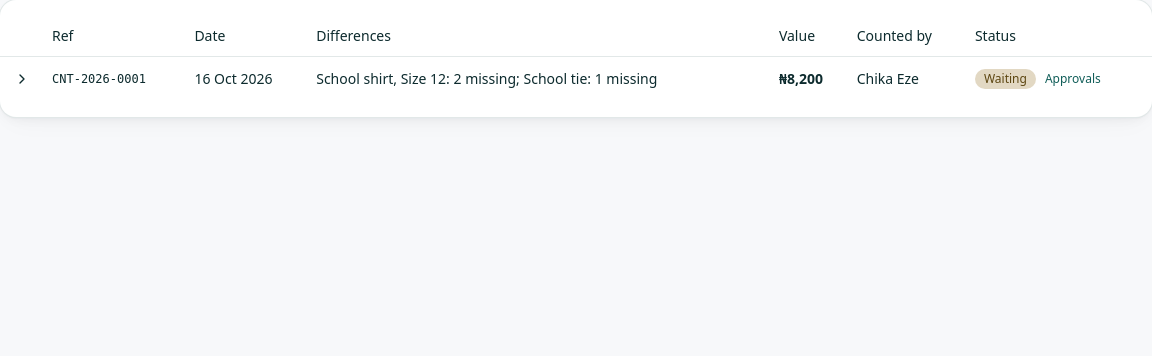
StockCountsTable › expands from the other cells of the row too
The image size is (1152, 356).
Step 1. Click the button "Chika Eze" → (908, 78), box [857,68,959,88]
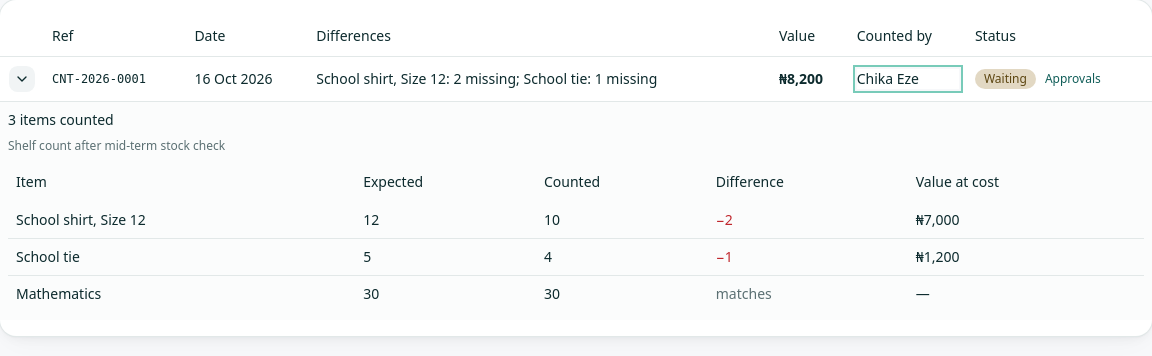
Expected: the text "3 items counted" is shown, [8,110,114,128]
